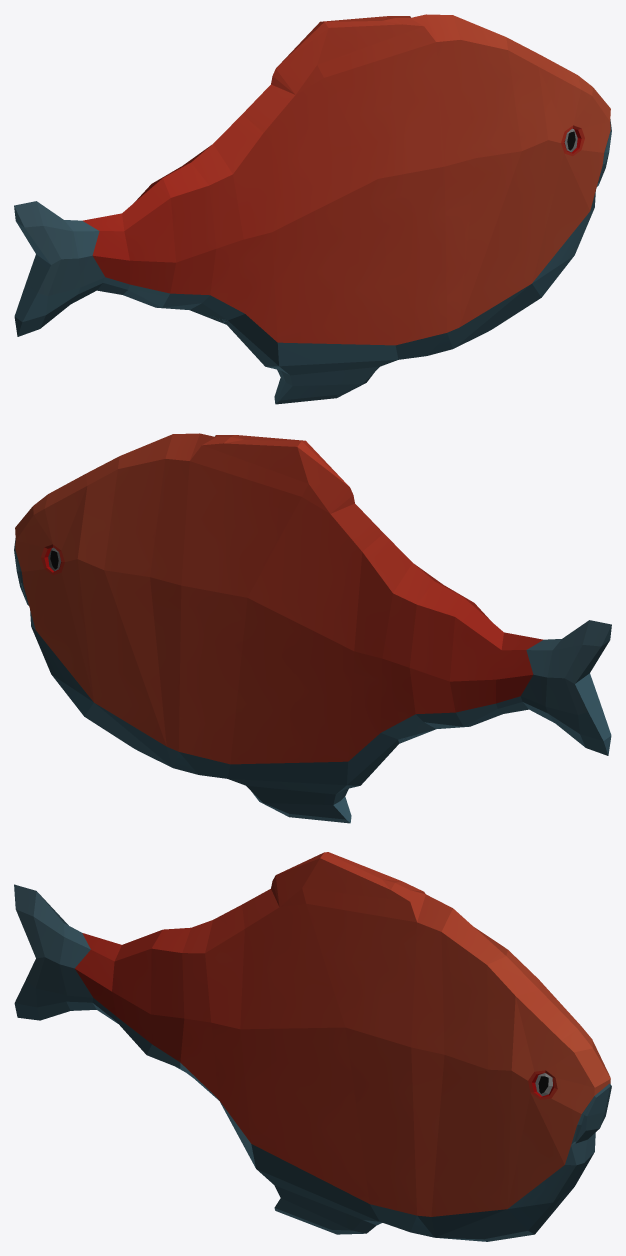
Rendered from FishV4.fbx.
3 views of the same model, one above another, from view 1: azimuth 30°, elevation 25°; view 2: azimuth 150°, elevation 25°; view 3: azimuth 330°, elevation 25° (orthographic).
Parts seen in each view (by area): view 1: FishV4; view 2: FishV4; view 3: FishV4.
Boxes of the visible parts, <box> form: FishV4: <box>14,14,611,404</box>; FishV4: <box>14,433,611,823</box>; FishV4: <box>14,852,611,1241</box>.
Size of the model in its own units: 90.95 by 55.21 by 9.66.
